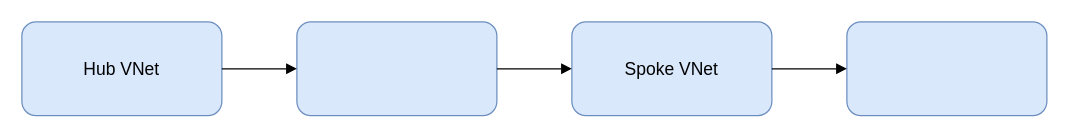
This 1069x138 diagram has some shape labels left out. Each missing label, with the box of its shape:
Peering: (296, 21, 497, 116)
Workload subnet: (846, 21, 1047, 116)
